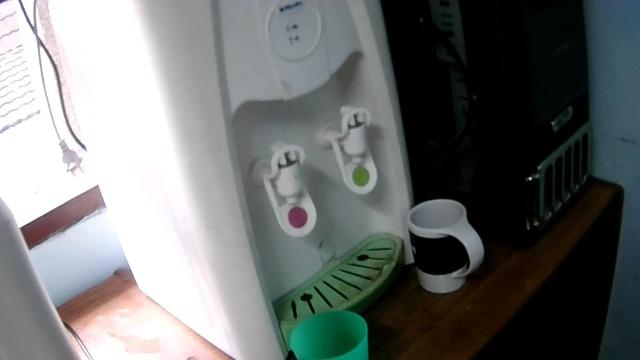Dispenser: (45, 0, 417, 359)
